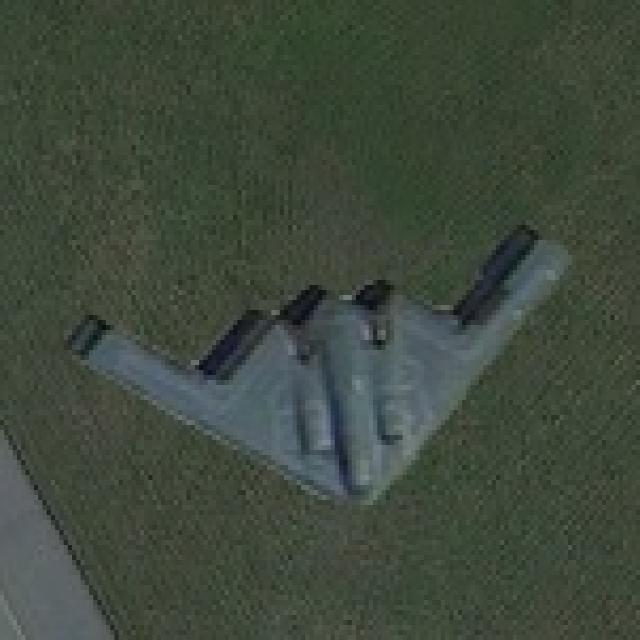B-2_TopDown: (55, 205, 577, 520)
